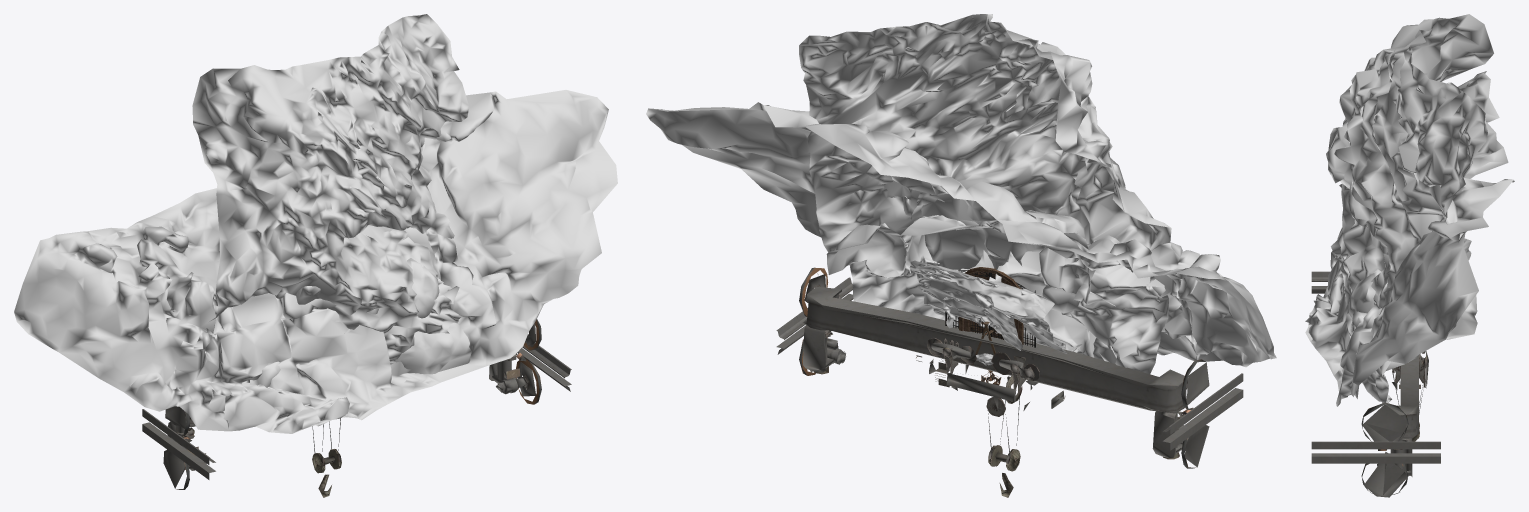
Rendered from deep.glb.
3 views of the same model, side by side, from view 1: azimuth 30°, elevation 25°; view 2: azimuth 150°, elevation 25°; view 3: azimuth 270°, elevation 25° (orthographic). The views are drawn at different scales.
Parts seen in each view (by area): view 1: drone_rock_02_LOD0, mountainside, drone_rock_01, overhead_crane, overhead_crane_rails, overhead_crane_winch; view 2: mountainside, drone_rock_02_LOD0, overhead_crane, drone_rock_01, rock_face_01, overhead_crane_winch, overhead_crane_rails, rock_face_02; view 3: mountainside, drone_rock_02_LOD0, overhead_crane, overhead_crane_rails, drone_rock_01, overhead_crane_winch.
Boxes of the visible parts, bbox=[...] form: drone_rock_02_LOD0: bbox=[14, 90, 617, 433]; mountainside: bbox=[192, 14, 468, 364]; drone_rock_01: bbox=[250, 258, 471, 387]; overhead_crane: bbox=[163, 319, 541, 489]; overhead_crane_rails: bbox=[142, 341, 571, 479]; overhead_crane_winch: bbox=[312, 418, 341, 497]; mountainside: bbox=[799, 14, 1171, 374]; drone_rock_02_LOD0: bbox=[646, 102, 1276, 367]; overhead_crane: bbox=[799, 267, 1209, 468]; drone_rock_01: bbox=[826, 210, 1115, 357]; rock_face_01: bbox=[909, 260, 1081, 353]; overhead_crane_winch: bbox=[916, 337, 1065, 497]; overhead_crane_rails: bbox=[776, 277, 1243, 450]; rock_face_02: bbox=[942, 297, 1022, 350]; mountainside: bbox=[1326, 14, 1493, 405]; drone_rock_02_LOD0: bbox=[1305, 71, 1514, 406]; overhead_crane: bbox=[1361, 355, 1418, 497]; overhead_crane_rails: bbox=[1311, 271, 1440, 463]; drone_rock_01: bbox=[1343, 260, 1477, 398]; overhead_crane_winch: bbox=[1392, 351, 1428, 441].
Size of the model in its own units: 20.19 by 14.4 by 6.49.
Materials: 9 (7 with a texture image).
